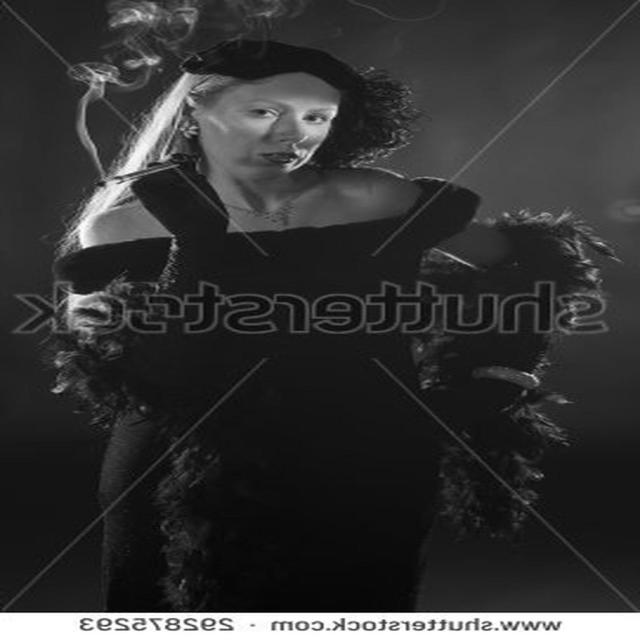smoking: (18, 33, 384, 227)
